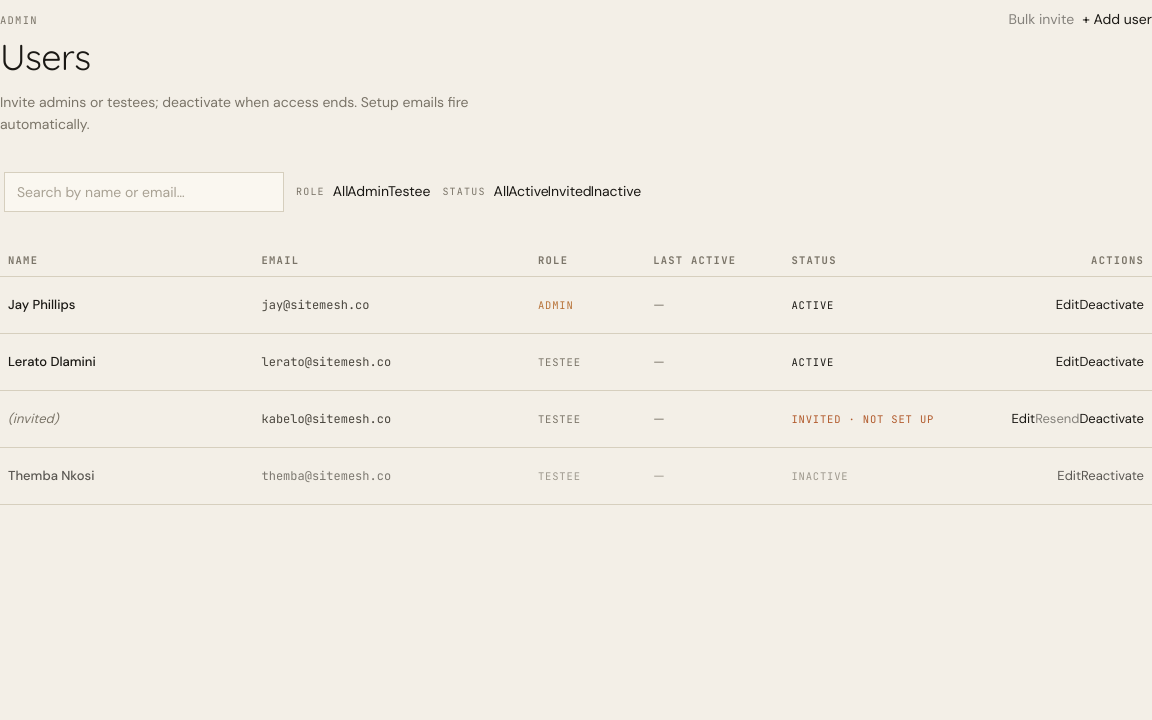
users list — Add user flow › projects duplicate-email 422 onto the email field
Step 1. Click the button with test id "users-add-button" → (1117, 20), box [1082,0,1151,40]
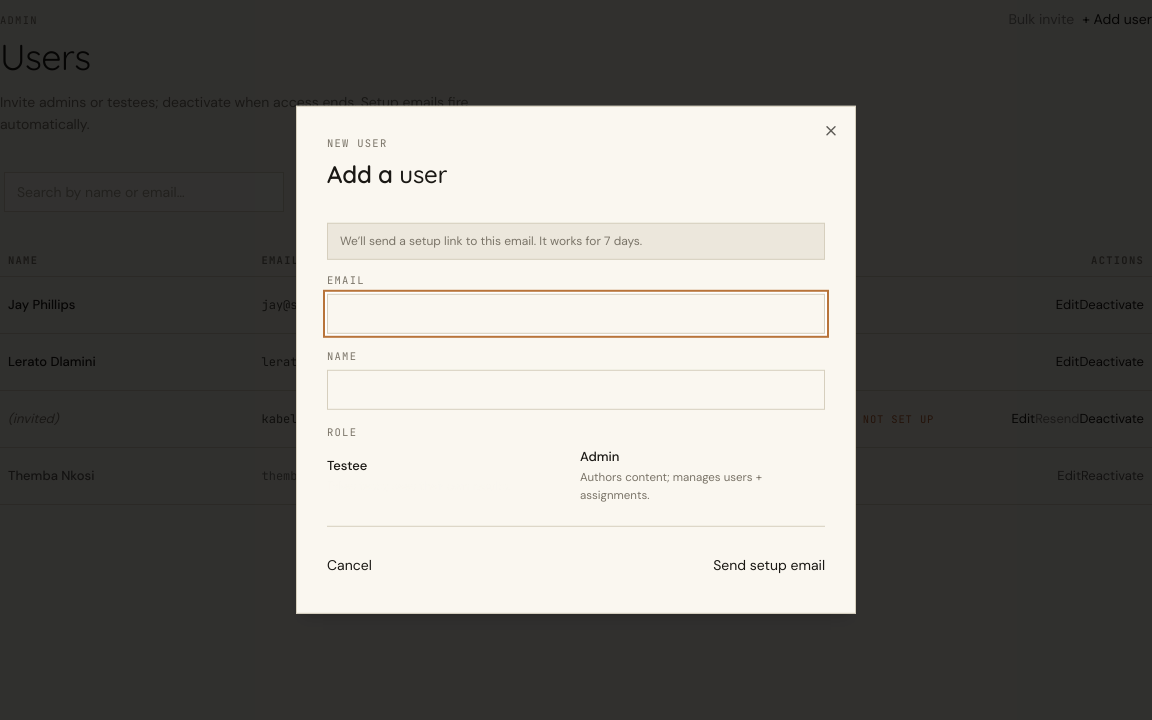
Step 2. Type "jay@sitemesh.co" into the field with test id "user-add-email" → (576, 314), box [327,294,825,334]
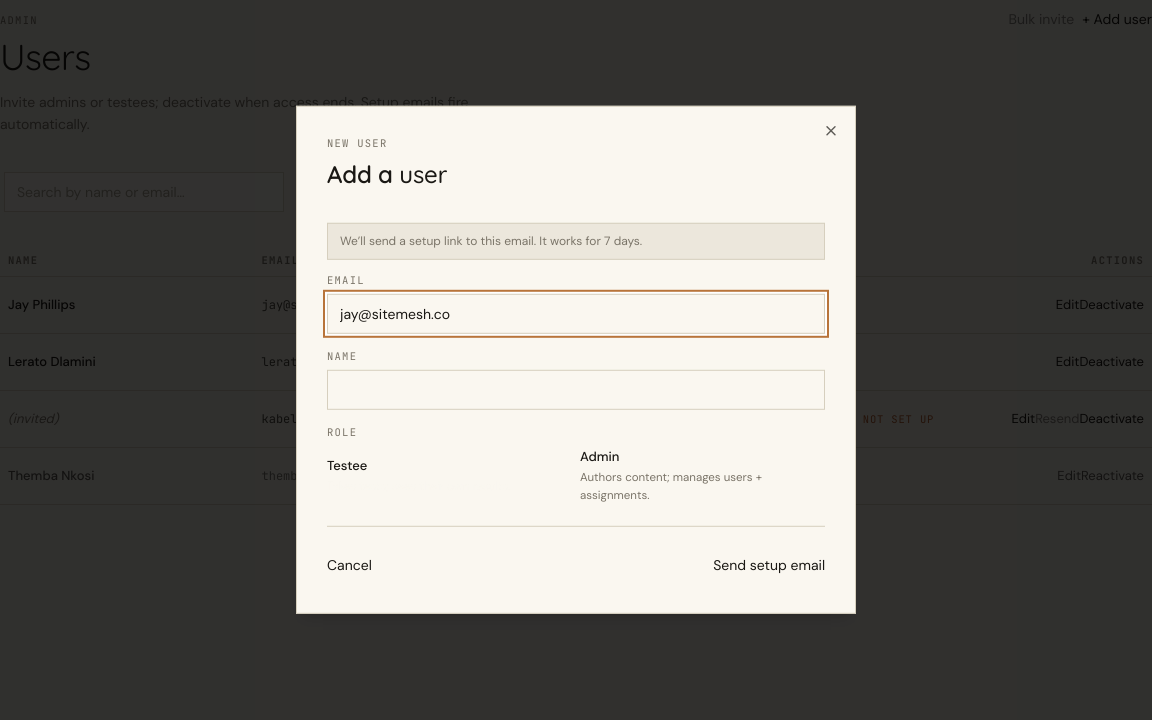
Step 3. Type "Jay" into the field with test id "user-add-name" → (576, 390), box [327,370,825,410]
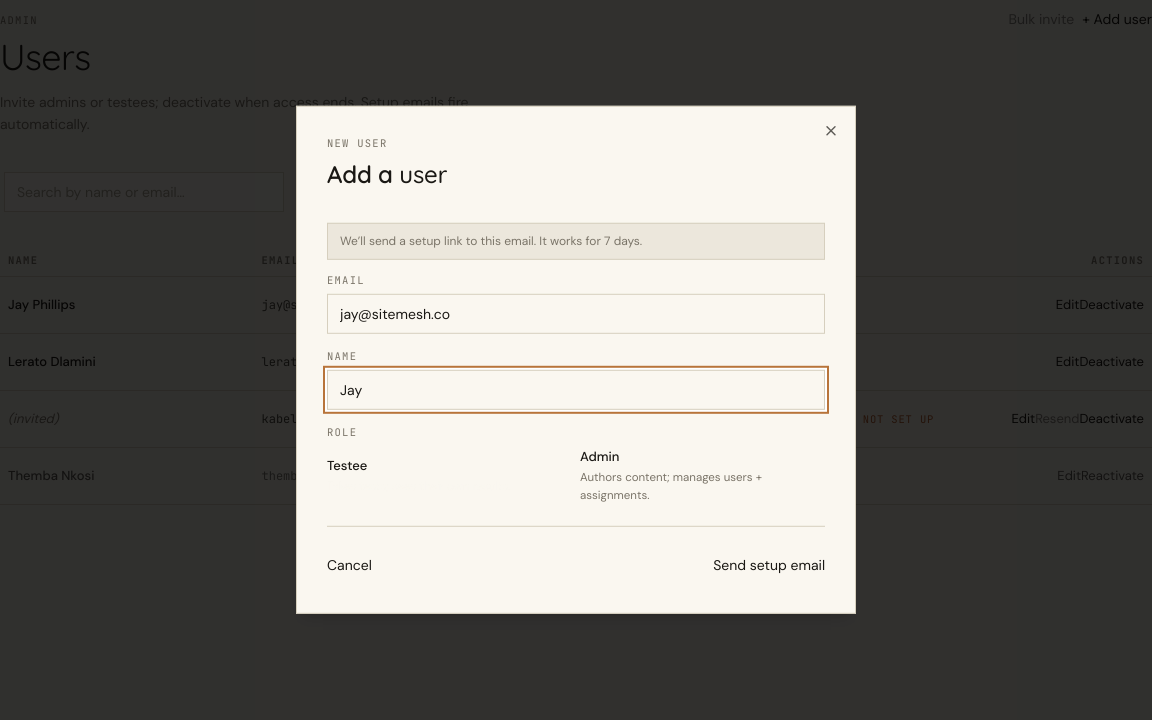
Step 4. Click the button with test id "user-add-submit" → (769, 565), box [713,545,825,585]
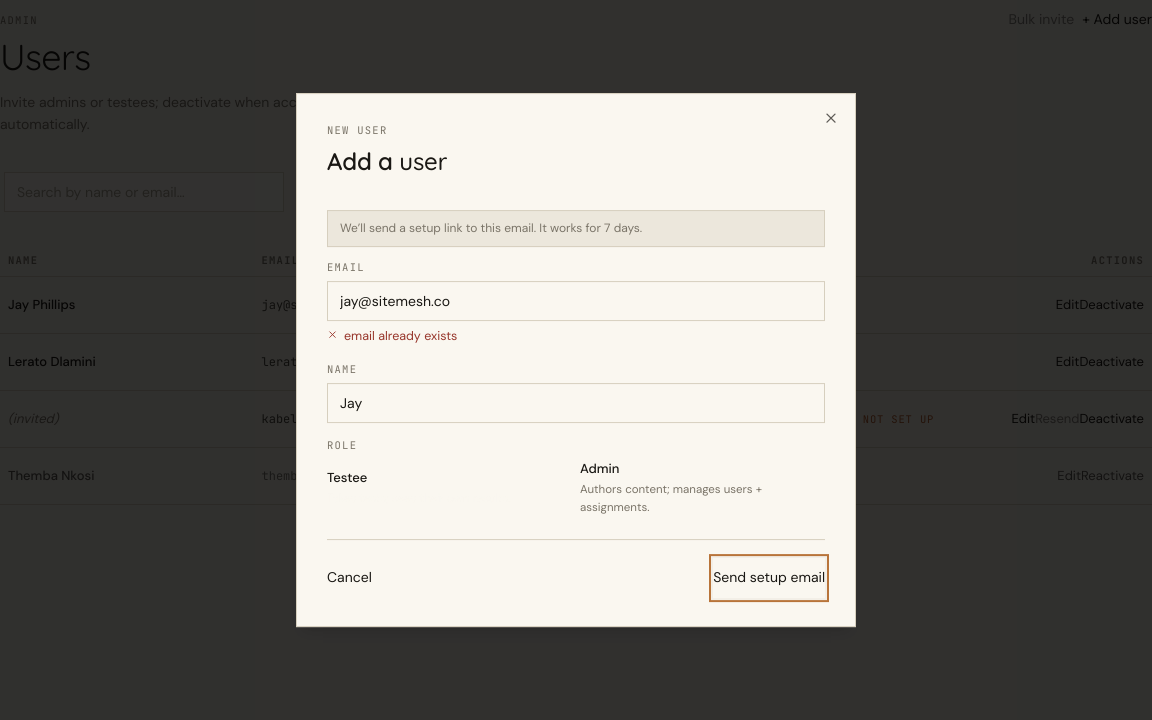
Expected: the text "email already exists" is shown, [344,327,457,347]
